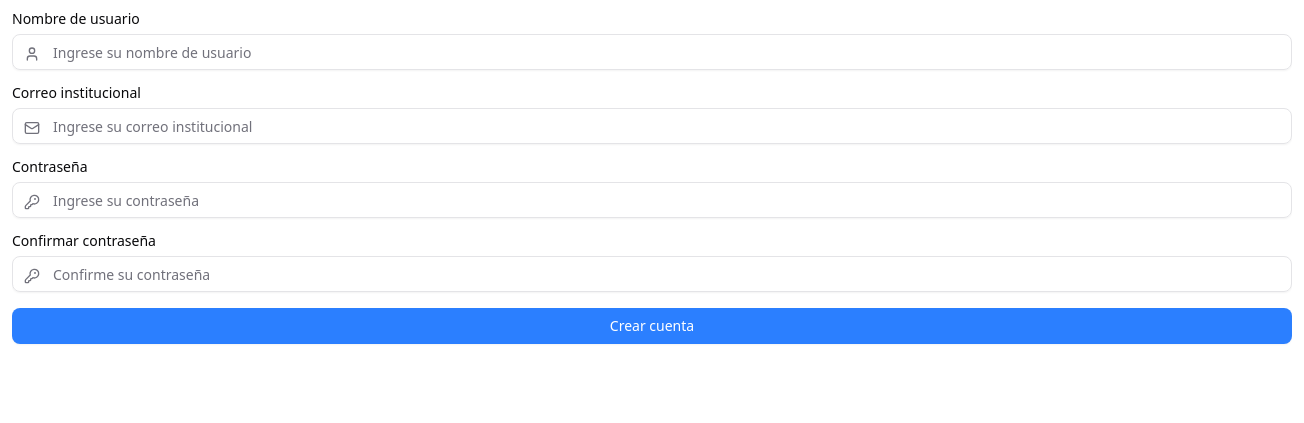
Test: SignupForm › shows validation errors for invalid email
This screenshot has width=1304, height=423.
Type "invalid-email" into the field with test id "signup-email-input" at {"x": 652, "y": 126}, box [12,108,1292,144]
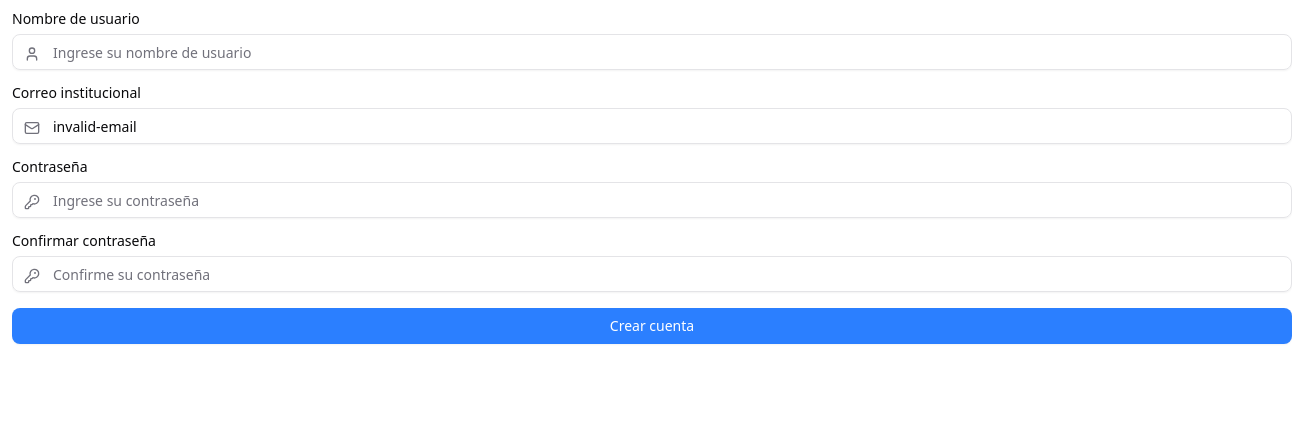
Click the button with test id "signup-submit" at {"x": 652, "y": 326}, box [12,308,1292,344]
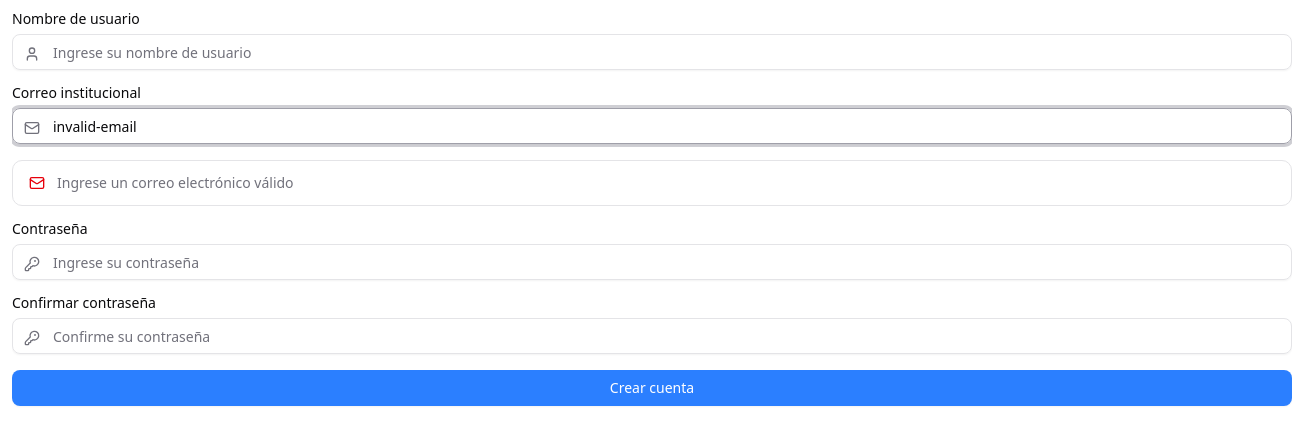
Expected: the element with test id "signup-email-error" is shown, [12,160,1292,206]
Expected: the text "Ingrese un correo electrónico válido" is shown, [57,173,294,192]
